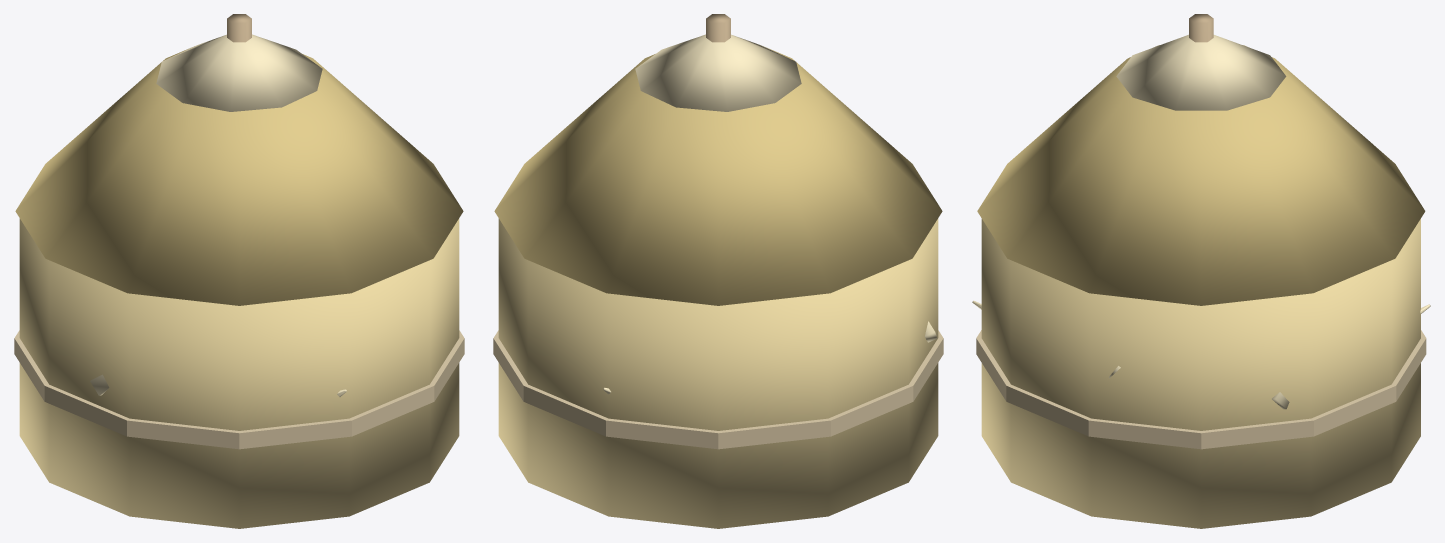
File: haystack.fbx
3 views of the same model, side by side, from view 1: azimuth 30°, elevation 25°; view 2: azimuth 150°, elevation 25°; view 3: azimuth 270°, elevation 25° (orthographic).
Visible parts, largest first — view 1: EN_haystack; view 2: EN_haystack; view 3: EN_haystack.
Part boxes in pixels (bbox=[...]): EN_haystack: bbox=[14, 14, 464, 528]; EN_haystack: bbox=[493, 14, 943, 528]; EN_haystack: bbox=[972, 14, 1430, 528].
Bounding box in the file's own units: 127 × 130 × 129.
